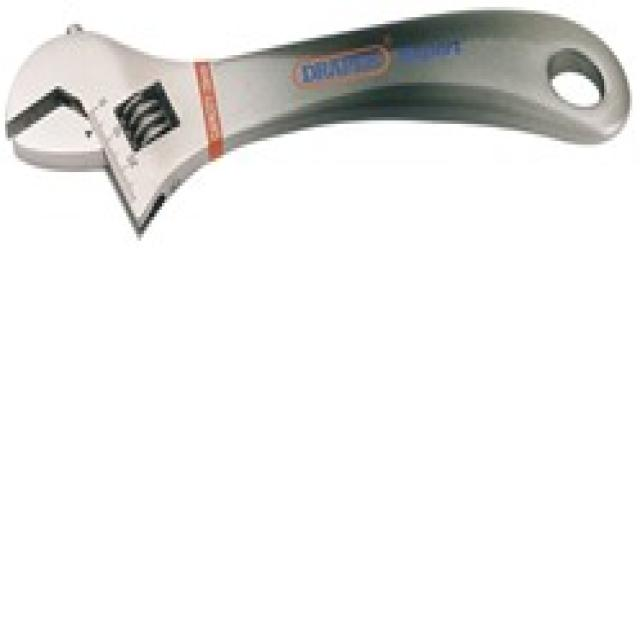wrench: (10, 7, 632, 237)
